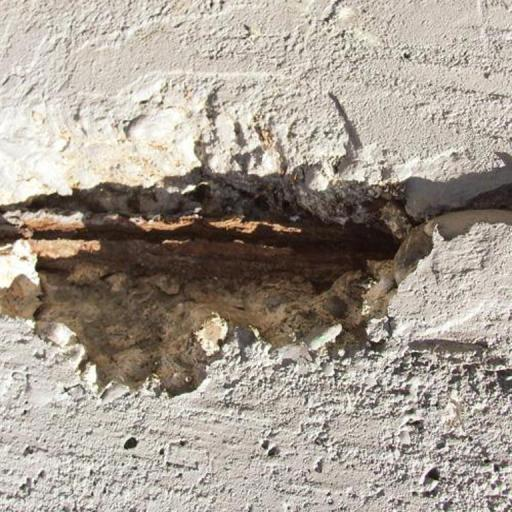spalling: (6, 171, 431, 405)
